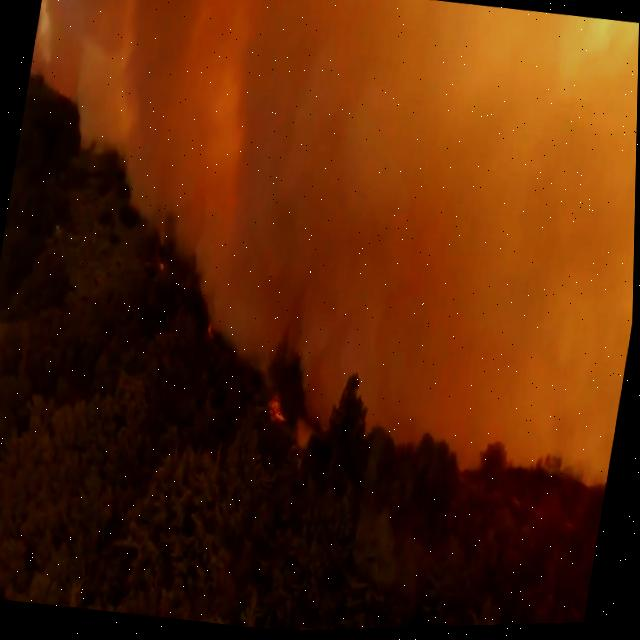smoke: (31, 0, 639, 474)
